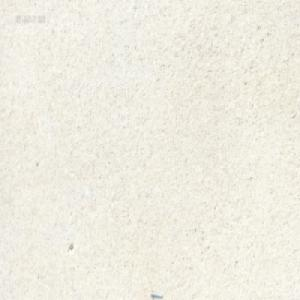Nail: (149, 289, 162, 297)
